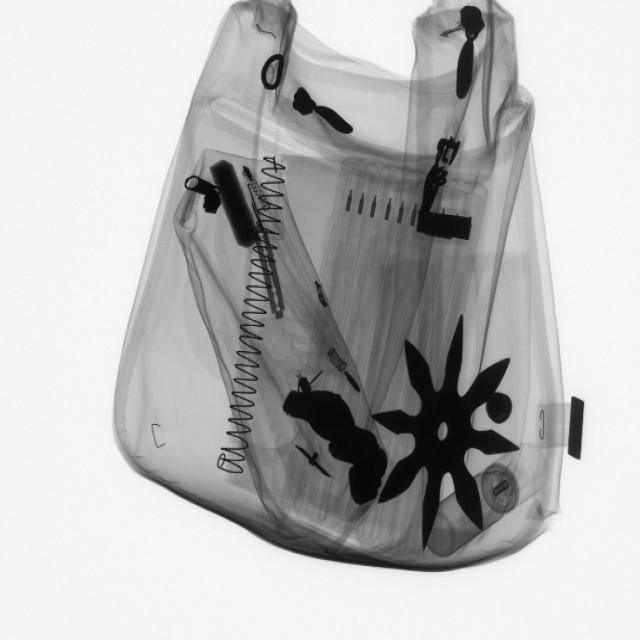BLADE: (256, 230, 288, 328)
SHURIKEN: (374, 311, 525, 551)
